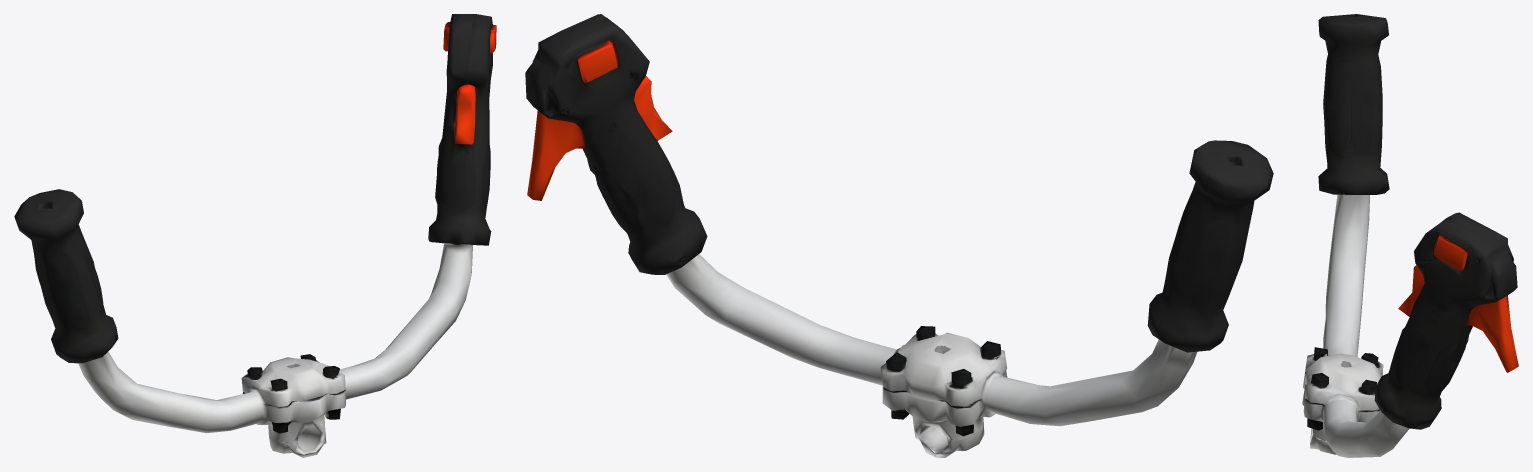
Rendered from tirpan_gidon.glb.
3 views of the same model, side by side, from view 1: azimuth 30°, elevation 25°; view 2: azimuth 150°, elevation 25°; view 3: azimuth 270°, elevation 25° (orthographic). The views are drawn at different scales.
Parts seen in each view (by area): view 1: tripo_node_16e2af80-f156-4c09-b47c-ccf3f0a2bf65; view 2: tripo_node_16e2af80-f156-4c09-b47c-ccf3f0a2bf65; view 3: tripo_node_16e2af80-f156-4c09-b47c-ccf3f0a2bf65.
Boxes of the visible parts, x1,y1,x2,y2 form: tripo_node_16e2af80-f156-4c09-b47c-ccf3f0a2bf65: [14, 14, 496, 457]; tripo_node_16e2af80-f156-4c09-b47c-ccf3f0a2bf65: [525, 14, 1273, 457]; tripo_node_16e2af80-f156-4c09-b47c-ccf3f0a2bf65: [1302, 14, 1518, 457].
Size of the model in its own units: 0.9825 by 0.5863 by 0.3296.
1 material, 1 textured.
